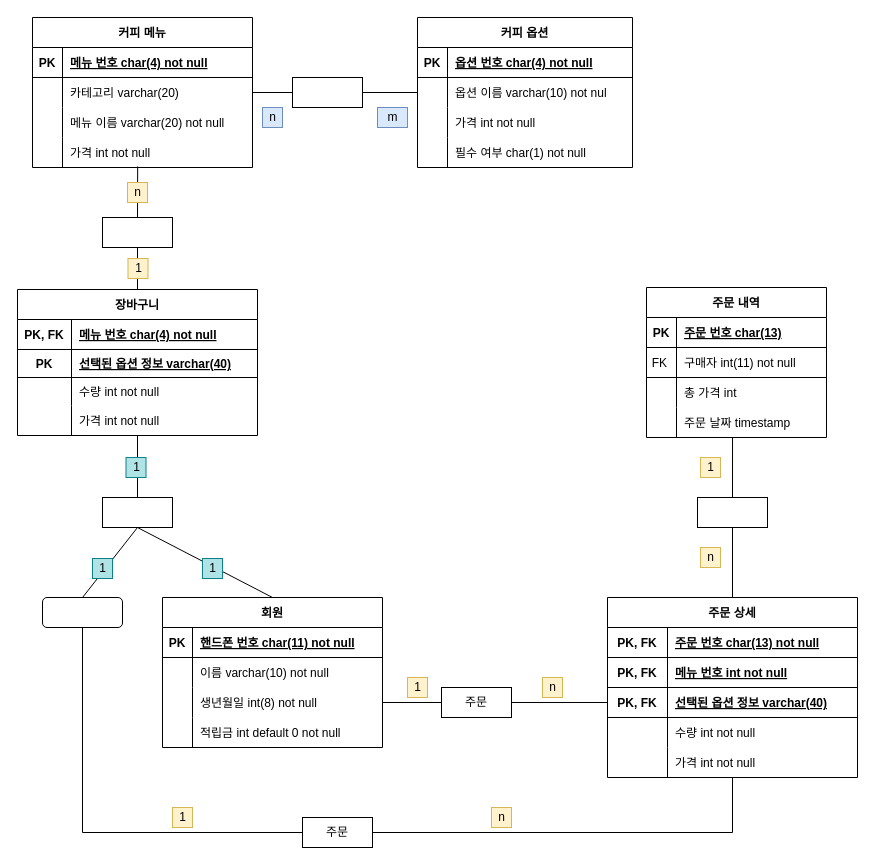
Image size: 875x865. Some labels were removed from this diagram. The shapes that lost their labels are listed below. From the top down, each one's centre as x and y in pixels, then its label:
the point at 327,92: 선택
the point at 137,232: 담기
the point at 137,512: 소유
the point at 732,512: 소속
the point at 82,612: 비회원
